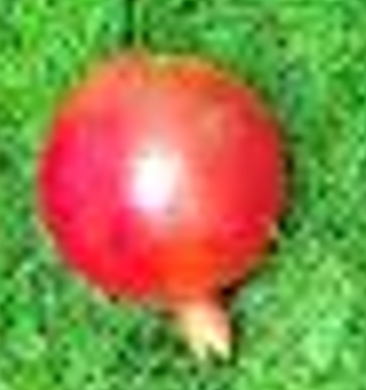pomegranate_A: (37, 48, 293, 368)
